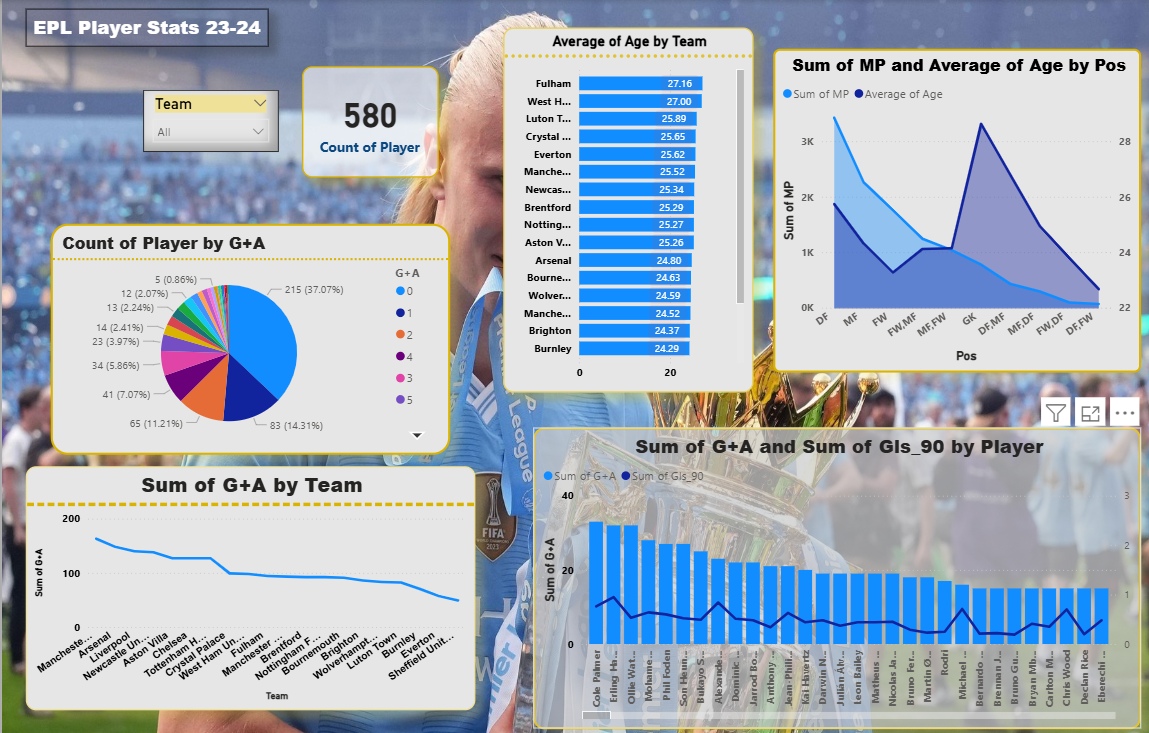

The dashboard page shown, as its layout file describes it:
{"tool":"powerbi","page":{"name":"Page 1","canvas":[1347,868],"ordinal":0},"visuals":[{"type":"card","fields":{"Values":["CountNonNull(premier-player-23-24.Player)"]},"box":[348.5,76.5,158.8,129.4],"z":0},{"type":"barChart","fields":{"Category":["premier-player-23-24.Team"],"Y":["Avg(premier-player-23-24.Age)"]},"box":[583.8,32.4,291.2,425],"z":1000},{"type":"pieChart","fields":{"Category":["premier-player-23-24.G+A"],"Y":["CountNonNull(premier-player-23-24.Player)"]},"box":[57.4,260.3,464.7,269.1],"z":2000},{"type":"lineChart","fields":{"Y":["Sum(premier-player-23-24.G+A)"],"Category":["premier-player-23-24.Team"]},"box":[27.9,542.6,523.5,283.8],"z":3000},{"type":"lineClusteredColumnComboChart","fields":{"Category":["premier-player-23-24.Player"],"Y":["Sum(premier-player-23-24.G+A)"],"Y2":["Sum(premier-player-23-24.Gls_90)"]},"box":[617.6,497.1,707.4,351.5],"z":4000},{"type":"slicer","fields":{"Values":["premier-player-23-24.Team"]},"box":[164.7,104.4,157.4,72.1],"z":5000},{"type":"areaChart","fields":{"Category":["premier-player-23-24.Pos"],"Y":["Sum(premier-player-23-24.MP)"],"Y2":["Avg(premier-player-23-24.Age)"]},"box":[897.1,57.4,427.9,376.5],"z":6000},{"type":"textbox","box":[27.9,10.3,282.4,44.1],"z":7000}]}

Visuals, with their boxes in screenshot pixels (x1, y1, x2, y2), scaled from the page's 1347x868 canvas onto the 1149x733 screenshot:
card - CountNonNull(premier-player-23-24.Player): crop(297, 65, 433, 174)
barChart - premier-player-23-24.Team x Avg(premier-player-23-24.Age): crop(498, 27, 746, 386)
pieChart - premier-player-23-24.G+A x CountNonNull(premier-player-23-24.Player): crop(49, 220, 445, 447)
lineChart - Sum(premier-player-23-24.G+A) x premier-player-23-24.Team: crop(24, 458, 470, 698)
lineClusteredColumnComboChart - premier-player-23-24.Player x Sum(premier-player-23-24.G+A): crop(527, 420, 1130, 717)
slicer - premier-player-23-24.Team: crop(140, 88, 275, 149)
areaChart - premier-player-23-24.Pos x Sum(premier-player-23-24.MP): crop(765, 48, 1130, 366)
textbox: crop(24, 9, 265, 46)
